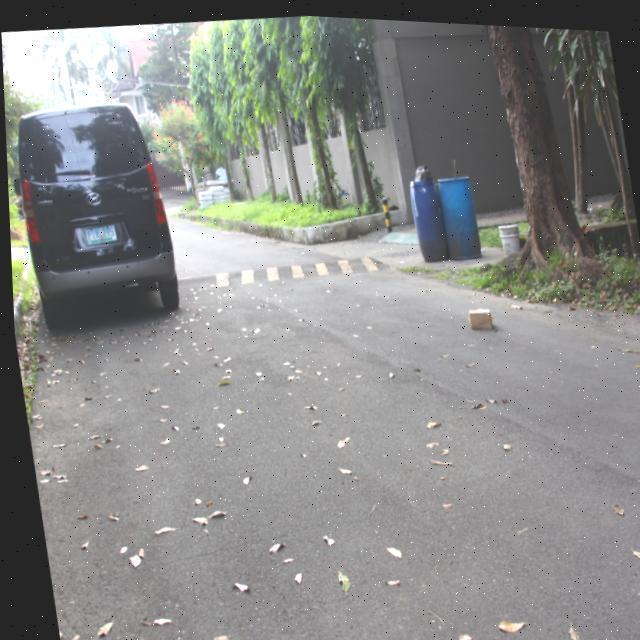Paper_Bag: (464, 300, 490, 326)
